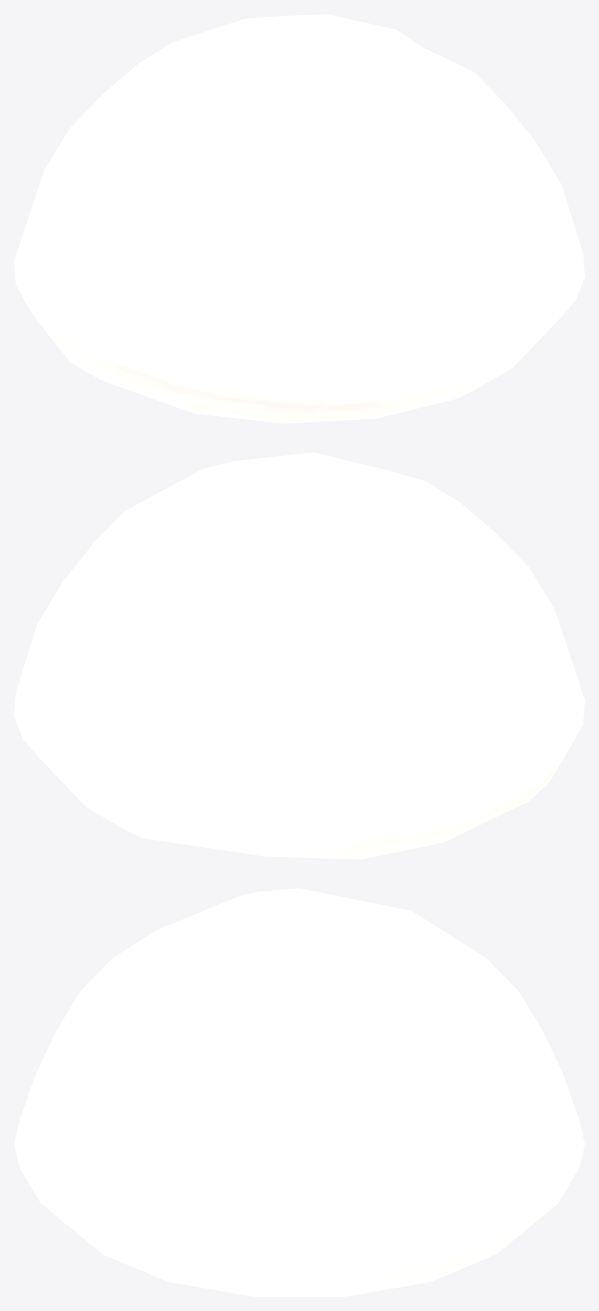
The model's file is moss-shrine.glb.
3 renders of one model, top to bottom at view 1: azimuth 30°, elevation 25°; view 2: azimuth 150°, elevation 25°; view 3: azimuth 270°, elevation 25°, orthographic.
Visible parts, largest first — view 1: Sphere_Material_0; view 2: Sphere_Material_0; view 3: Sphere_Material_0.
Boxes of the visible parts, x1,y1,x2,y2 form: Sphere_Material_0: (14, 14, 584, 423); Sphere_Material_0: (14, 452, 584, 859); Sphere_Material_0: (14, 888, 584, 1296).
Size of the model in its own units: 60.97 by 38.54 by 60.97.
8 materials, 7 textured.
